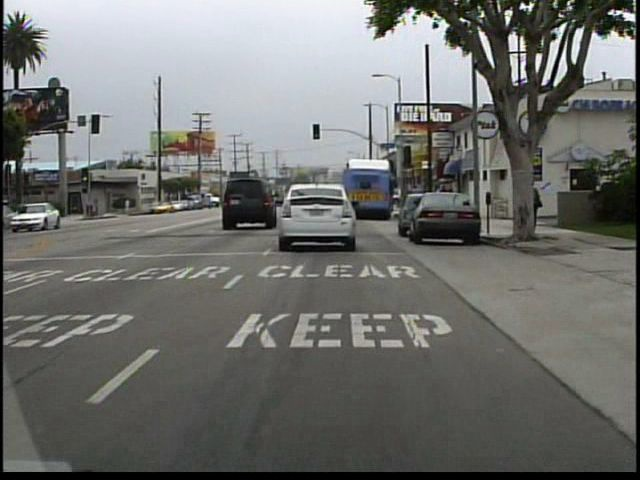person: (516, 176, 535, 230), (525, 177, 542, 232), (123, 196, 134, 216)
